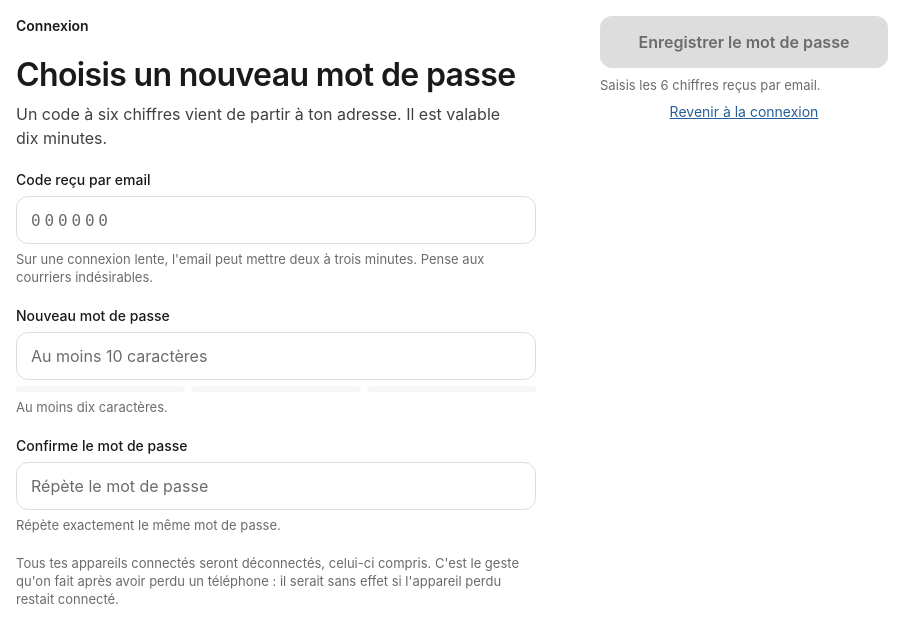
Test case: A-04 — Mot de passe › refuse d'enregistrer tant que les deux saisies diffèrent, et le dit
Type "531044" into the field labelled "Code reçu par email" at (276, 220), box [16,196,536,244]
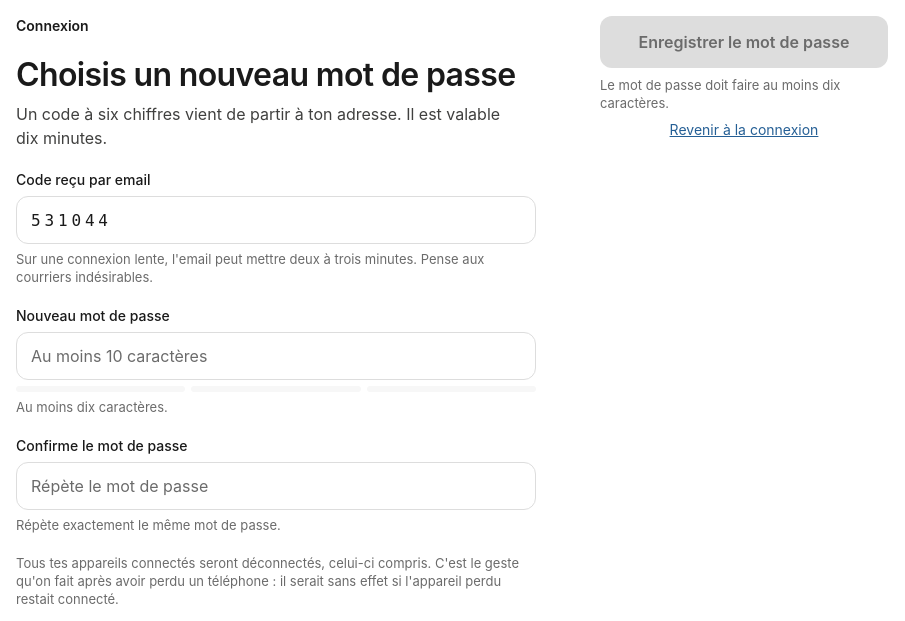
Type "douze-caracteres" into the password field labelled "Nouveau mot de passe" at (276, 356), box [16,332,536,380]
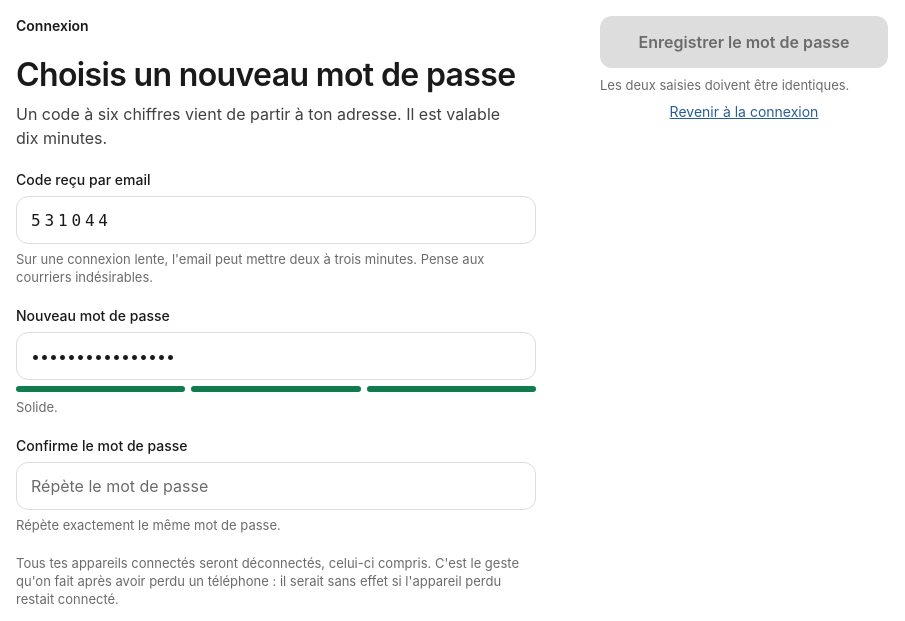
Type "autre-chose" into the password field labelled "Confirme le mot de passe" at (276, 486), box [16,462,536,510]
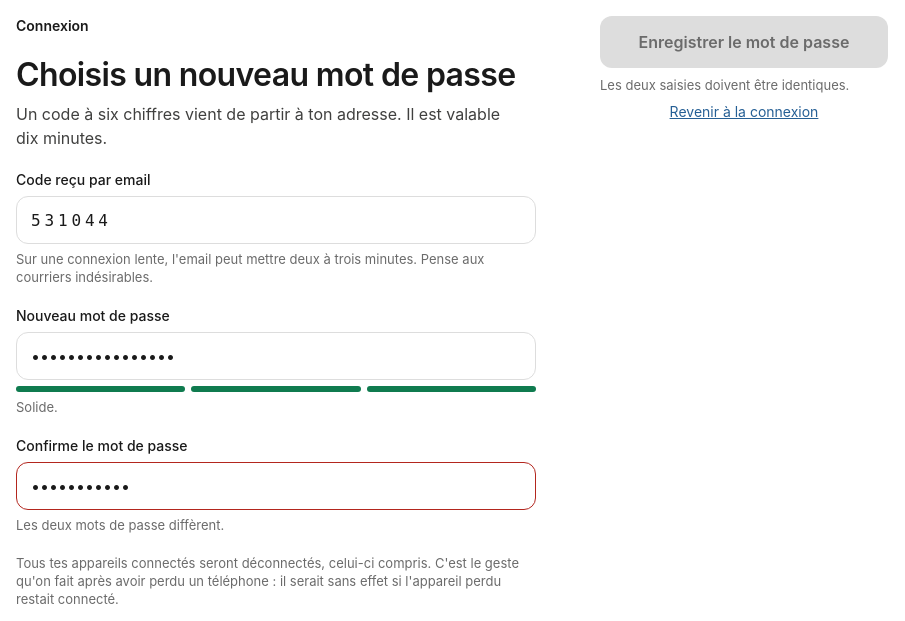
Expected: the button "Enregistrer le mot de passe" is disabled, [600,16,888,68]
Expected: the text "Les deux mots de passe diffèrent." is shown, [16,517,224,533]
Type "douze-caracteres" into the password field labelled "Confirme le mot de passe" at (276, 486), box [16,462,536,510]
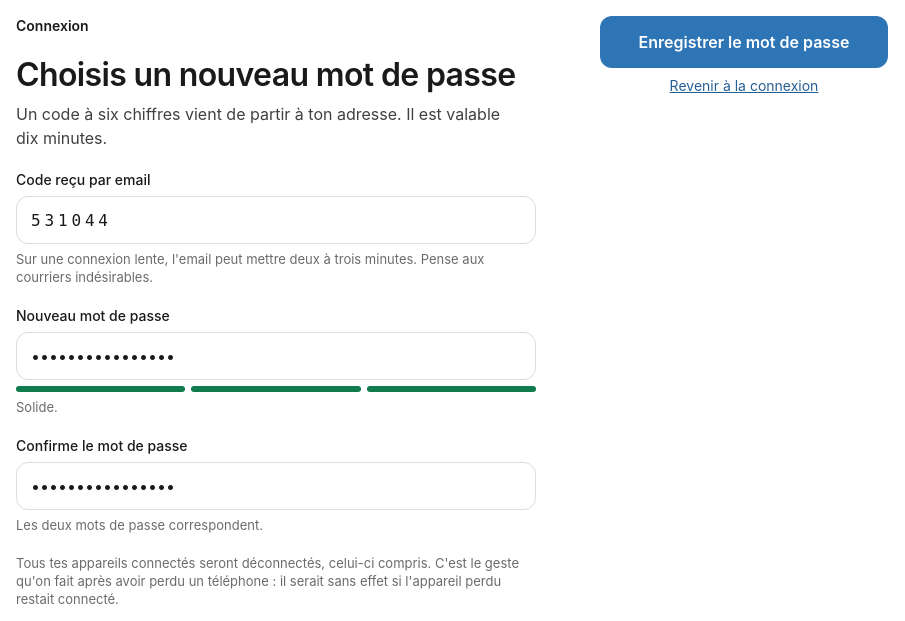
Expected: the button "Enregistrer le mot de passe" is enabled, [600,16,888,68]
